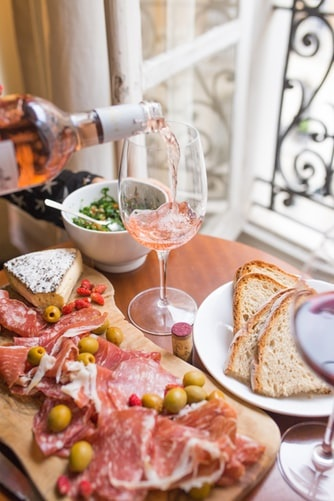whiskey: (122, 121, 213, 322)
